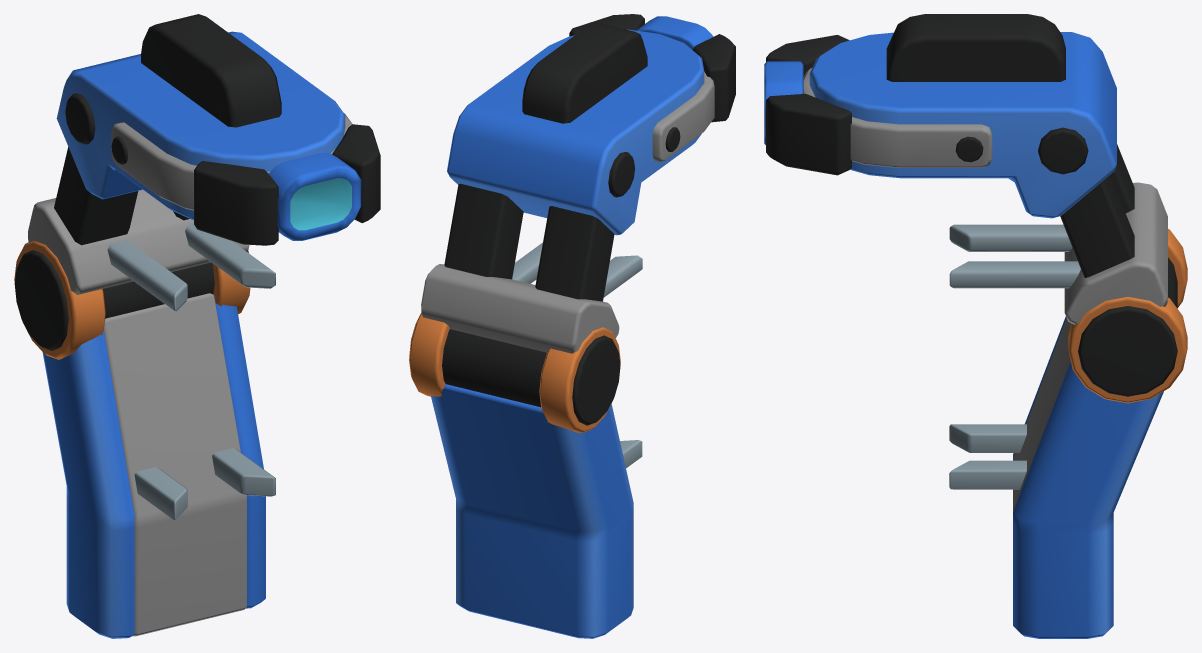
Rendered from column_001.fbx.
The picture shows the model from 3 angles, left to right: view 1: azimuth 30°, elevation 25°; view 2: azimuth 150°, elevation 25°; view 3: azimuth 270°, elevation 25°; orthographic projection. The views are drawn at different scales.
Visible parts, largest first — view 1: column_001; view 2: column_001; view 3: column_001.
Part boxes in pixels (left/top/right/bottom): column_001: left=14, top=14, right=380, bottom=638; column_001: left=409, top=14, right=735, bottom=638; column_001: left=764, top=14, right=1187, bottom=638.
Bounding box in the file's own units: 432 × 842 × 1267.
